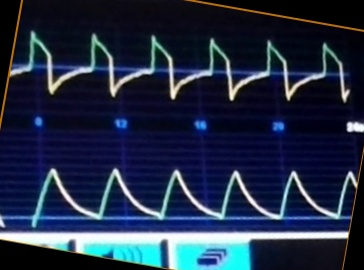Normal Flow: (17, 29, 349, 107)
Normal Volume: (2, 147, 356, 229)
